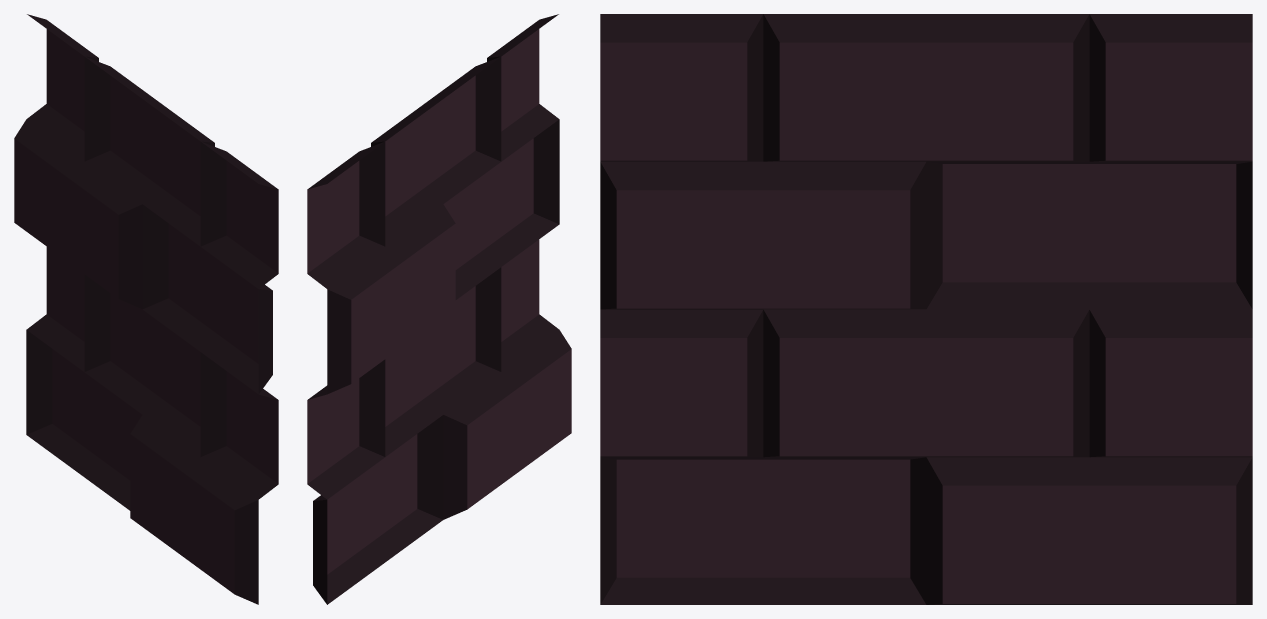
The model's file is wall03.fbx.
3 views of the same model, side by side, from view 1: azimuth 30°, elevation 25°; view 2: azimuth 150°, elevation 25°; view 3: azimuth 270°, elevation 25° (orthographic). The views are drawn at different scales.
Visible parts, largest first — view 1: wall03; view 2: wall03; view 3: wall03.
Part boxes in pixels (box(x1,y1,x2,y2)): wall03: box(14, 14, 278, 604); wall03: box(307, 14, 571, 604); wall03: box(600, 14, 1252, 604).
Size of the model in its own units: 19 by 200 by 200.
